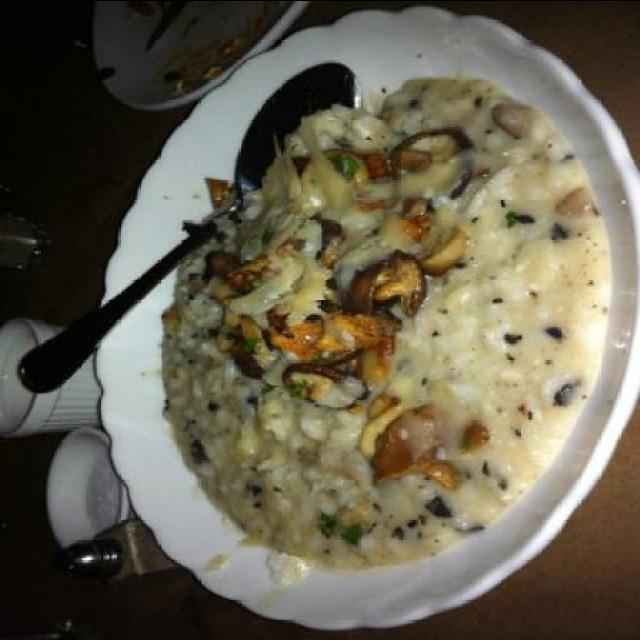Risotto: (163, 58, 615, 588)
